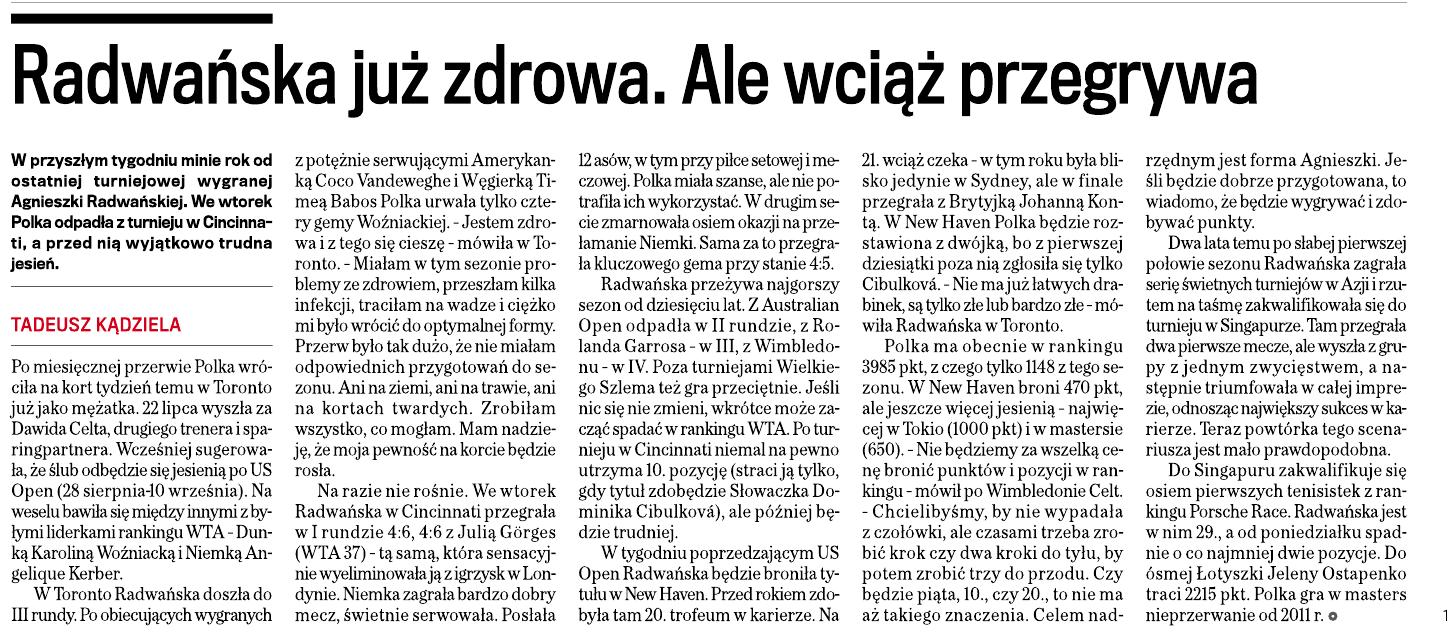author: (7, 305, 198, 342)
body: (1139, 144, 1423, 631), (571, 140, 850, 630), (858, 143, 1134, 630), (288, 142, 562, 628), (4, 350, 283, 631)
lead: (6, 143, 279, 279)
title: (10, 30, 1299, 128)
